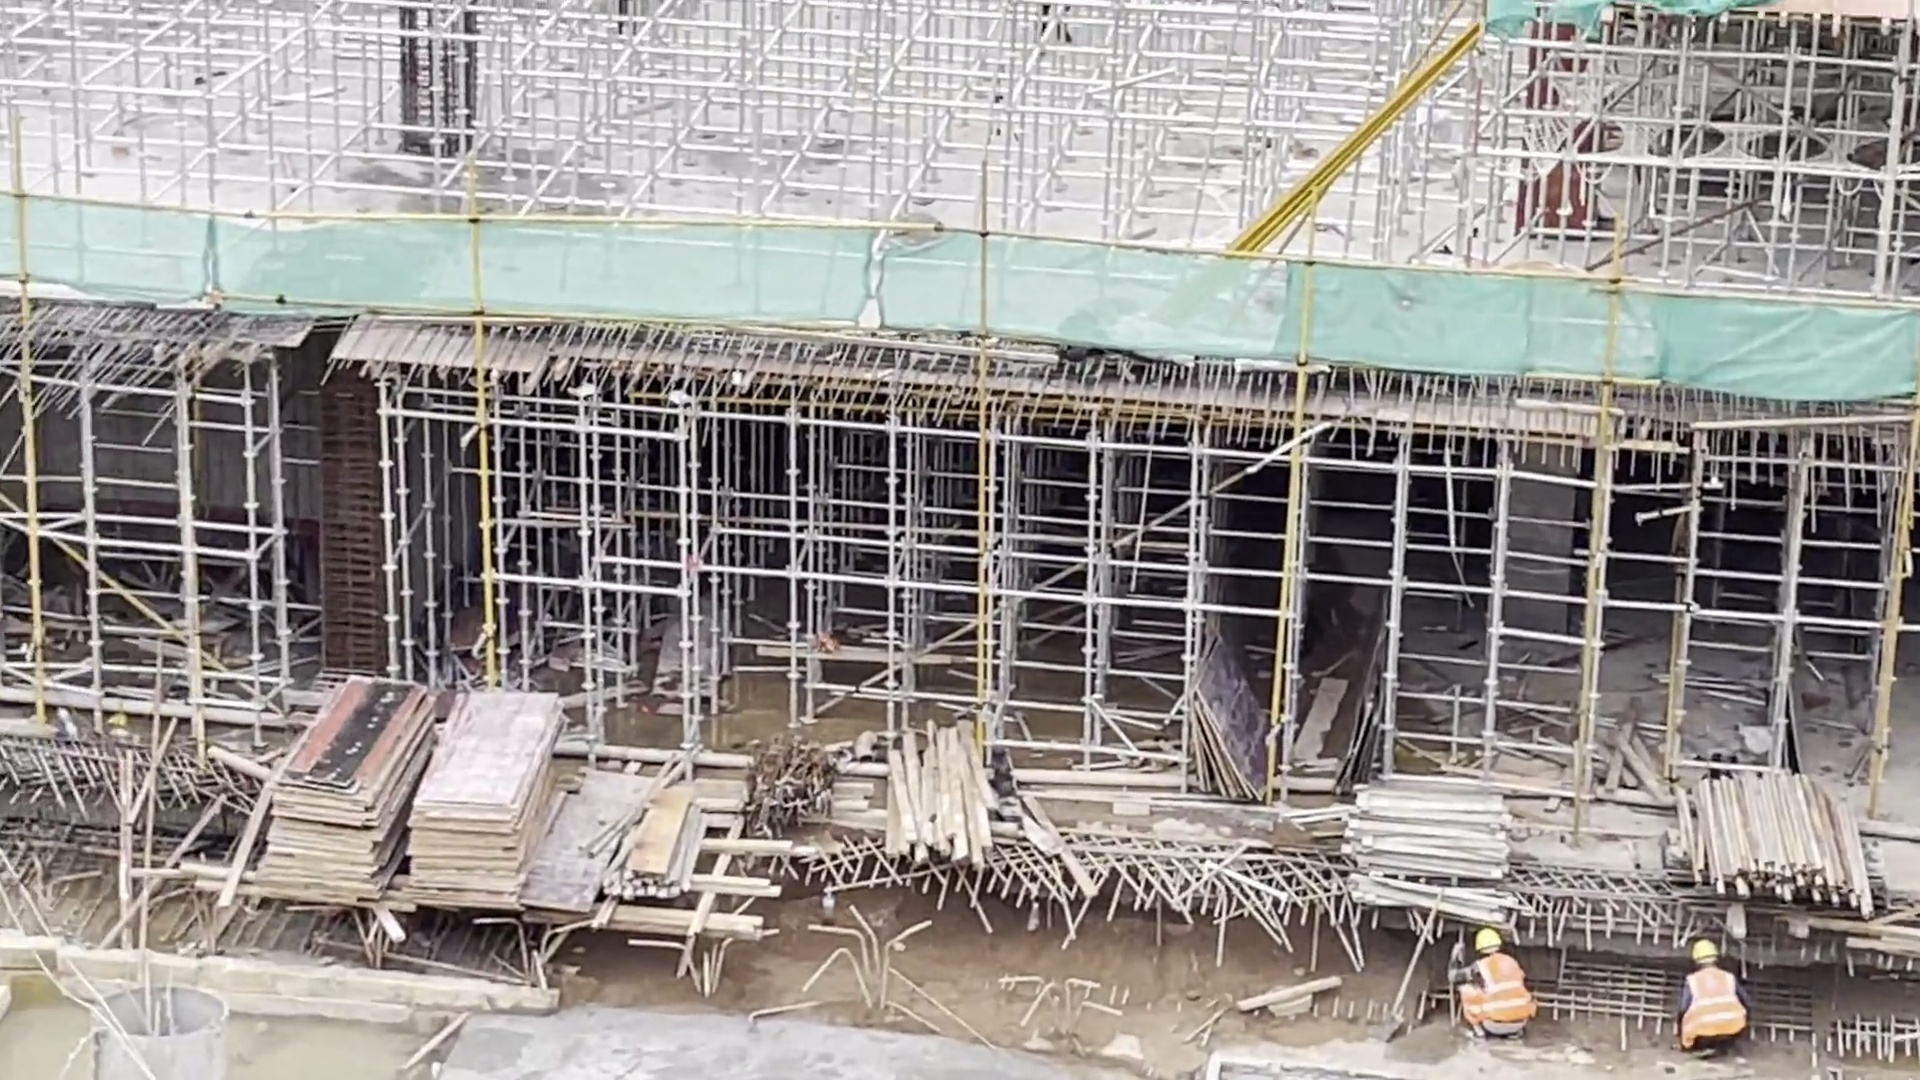board: (248, 674, 435, 899), (398, 690, 573, 903)
helmet: (1470, 928, 1501, 957), (1690, 938, 1720, 966)
person: (1444, 928, 1540, 1037), (1673, 934, 1757, 1059)
rebar: (744, 726, 842, 837)
vest: (1457, 953, 1538, 1024), (1679, 969, 1746, 1048)
wood: (884, 714, 1004, 866)
